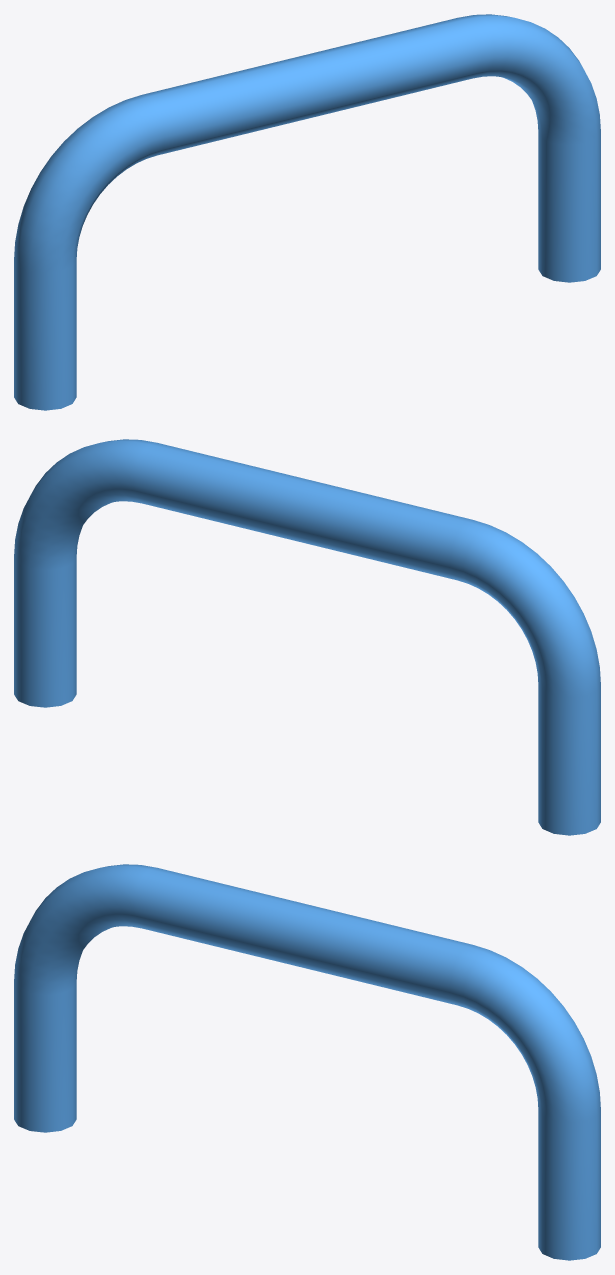
File: gateSmallWide_teamBlue-col.glb
The picture shows the model from 3 angles, top to bottom: view 1: azimuth 30°, elevation 25°; view 2: azimuth 150°, elevation 25°; view 3: azimuth 330°, elevation 25°; orthographic projection.
Visible parts, largest first — view 1: gateSmallWide_teamBlue-col; view 2: gateSmallWide_teamBlue-col; view 3: gateSmallWide_teamBlue-col.
Part boxes in pixels (left/top/right/bottom): gateSmallWide_teamBlue-col: left=14, top=14, right=600, bottom=410; gateSmallWide_teamBlue-col: left=14, top=439, right=600, bottom=835; gateSmallWide_teamBlue-col: left=14, top=864, right=600, bottom=1260.
Bounding box in the file's own units: 4.4 × 2 × 0.4126.
